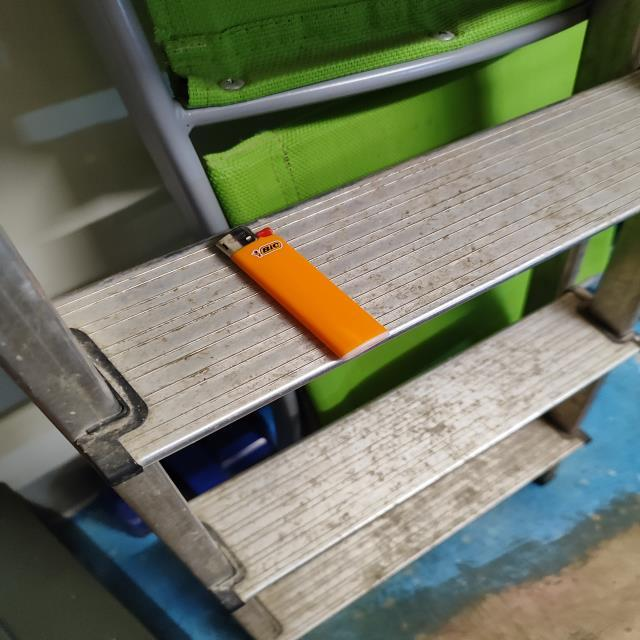lighter: (215, 226, 386, 357)
